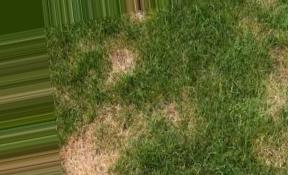patch: (64, 121, 123, 175), (261, 55, 288, 123), (101, 49, 146, 75), (161, 101, 180, 119)
